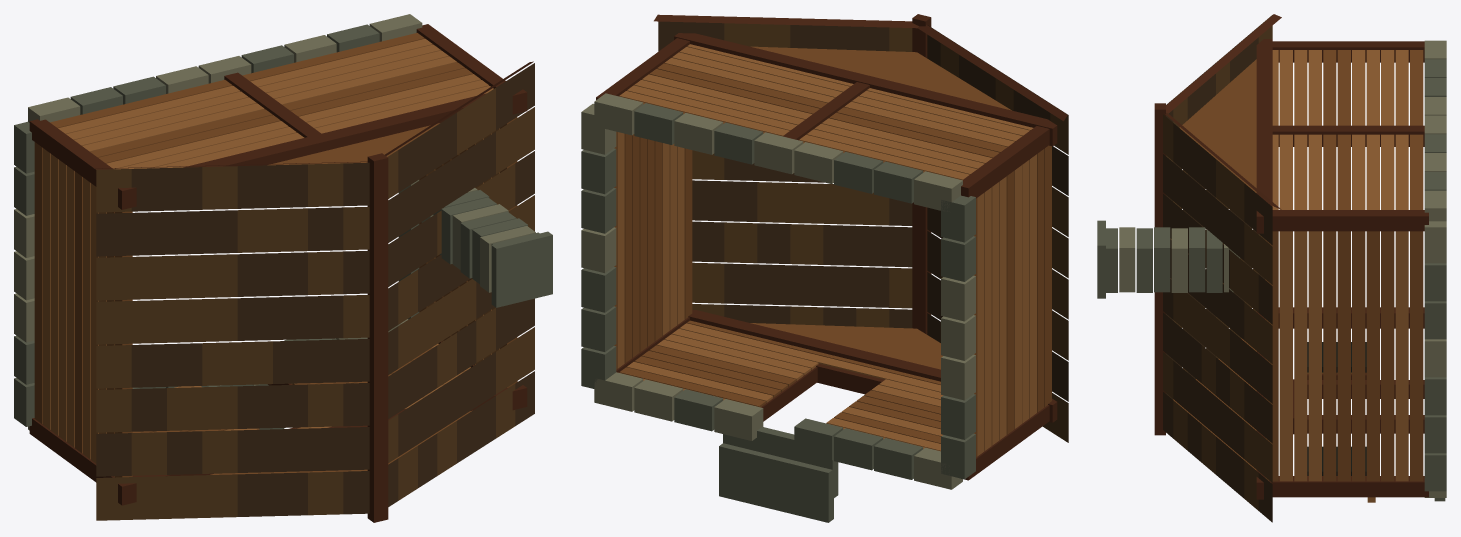
Rendered from SM_RuralCottage_B.obj.
3 views of the same model, side by side, from view 1: azimuth 30°, elevation 25°; view 2: azimuth 150°, elevation 25°; view 3: azimuth 270°, elevation 25° (orthographic). The views are drawn at different scales.
Visible parts, largest first — view 1: SM_RuralCottage_B; view 2: SM_RuralCottage_B; view 3: SM_RuralCottage_B.
Boxes of the visible parts, box(x1,y1,x2,y2) form: SM_RuralCottage_B: box(14, 14, 552, 522); SM_RuralCottage_B: box(581, 14, 1068, 522); SM_RuralCottage_B: box(1097, 14, 1446, 522).
Size of the model in its own units: 730 by 652 by 560.
